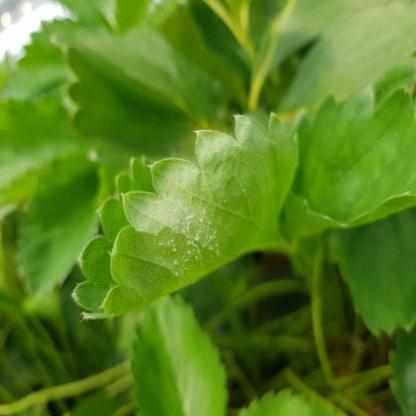Strawberry_Powdery_Mildew_Leaf: (70, 112, 300, 320)
